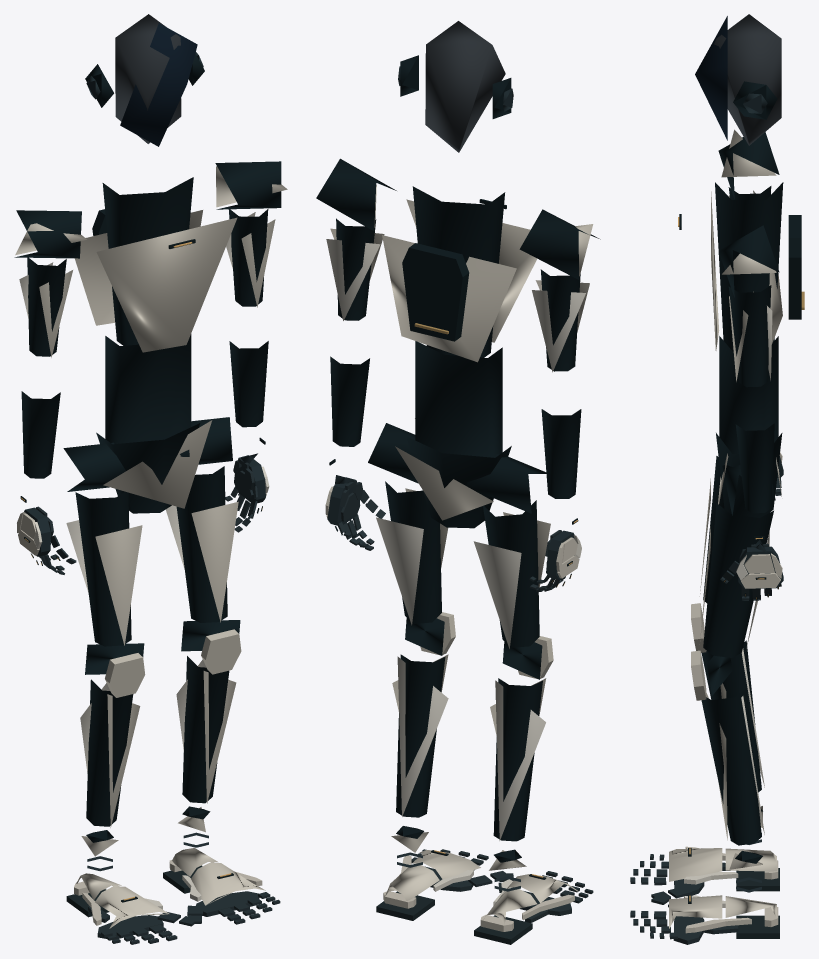
The model's file is nisoku03_d0_lod2.meshopt.glb.
The picture shows the model from 3 angles, left to right: view 1: azimuth 30°, elevation 25°; view 2: azimuth 150°, elevation 25°; view 3: azimuth 270°, elevation 25°; orthographic projection.
Parts seen in each view (by area): view 1: NISOKU_03_GEOMETRY; view 2: NISOKU_03_GEOMETRY; view 3: NISOKU_03_GEOMETRY.
Boxes of the visible parts, <box> form: NISOKU_03_GEOMETRY: <box>14,14,287,944</box>; NISOKU_03_GEOMETRY: <box>316,21,600,944</box>; NISOKU_03_GEOMETRY: <box>630,14,804,944</box>.
Size of the model in its own units: 0.5708 by 1.89 by 0.3356.
